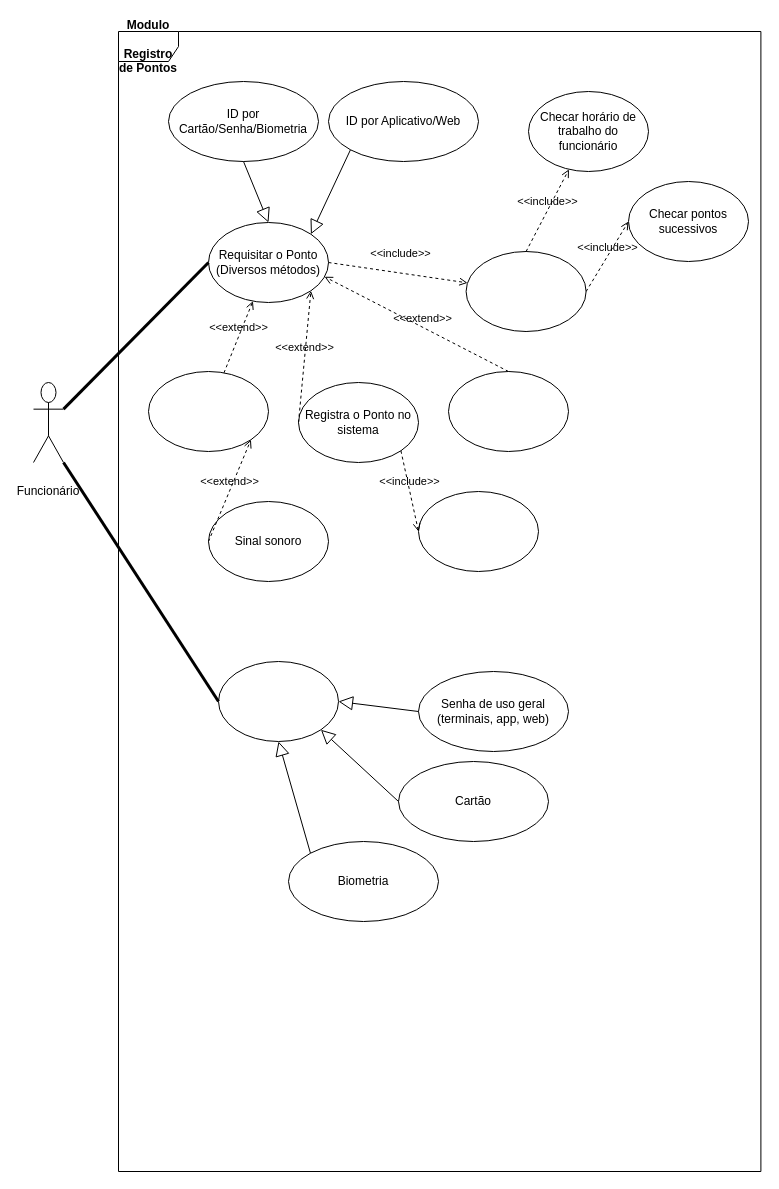
Image size: 779x1189. Some labels were removed from this diagram. Here are the shapes that lost their labels. From the top down, the box of each, then its label:
(465, 250, 586, 332): Checagem de ID
(32, 382, 64, 462): Actor
(148, 370, 268, 452): Invalidar requerimento
(448, 370, 568, 452): Envia requerimento para a impressora
(418, 490, 538, 572): Armazenar a localização da máquina
(218, 660, 338, 742): Registrar identificador
